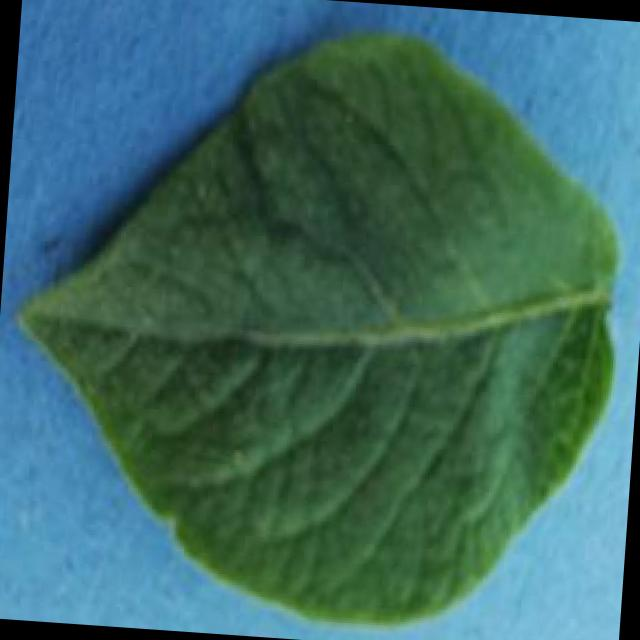Potato_Healthy: (0, 7, 631, 640)
